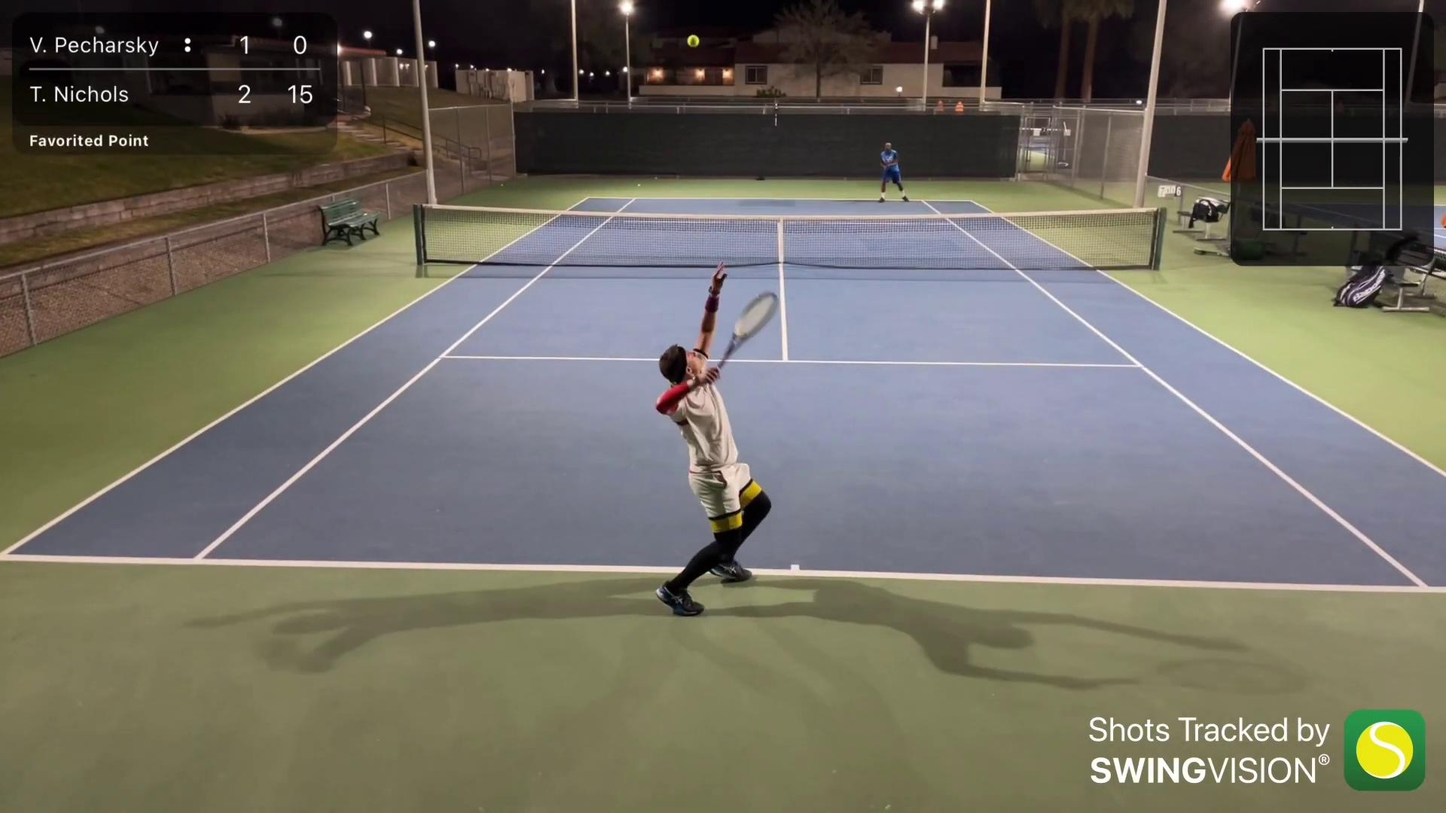ball: (686, 33, 701, 47)
